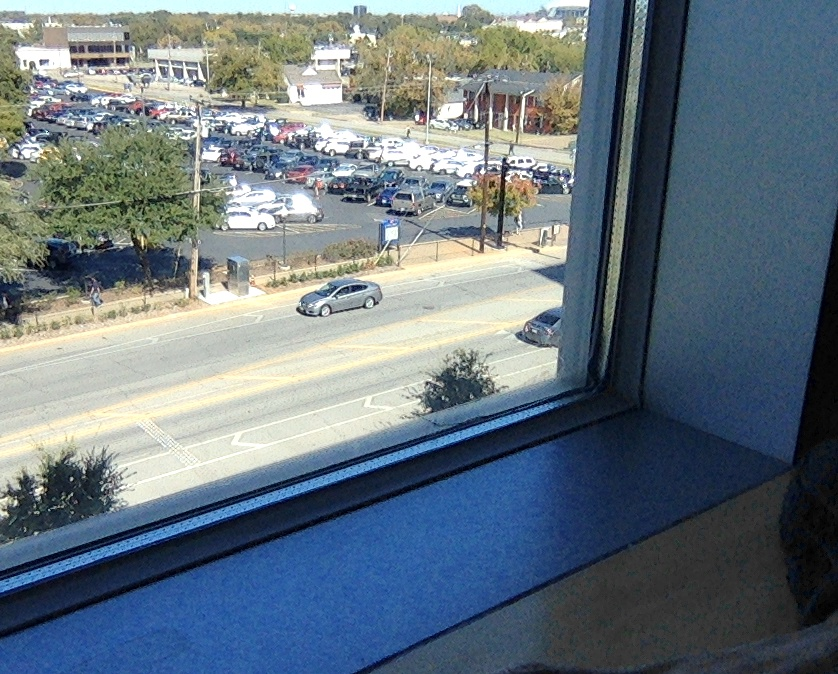car: (300, 300, 538, 374)
